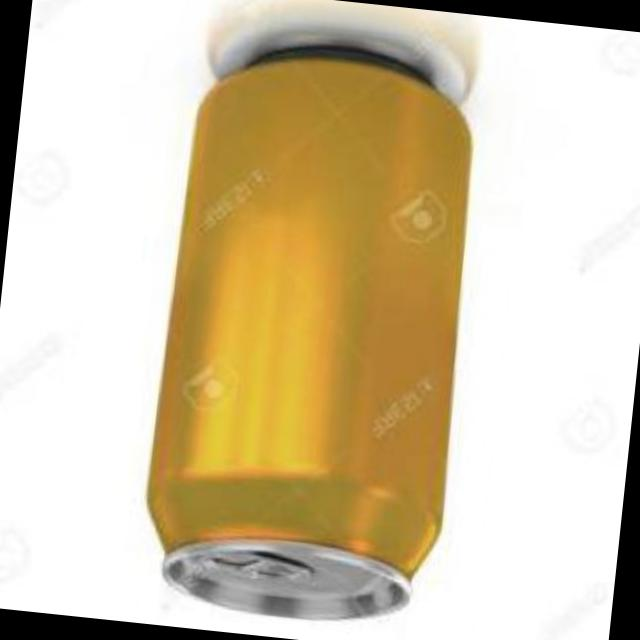metal: (150, 55, 472, 622)
